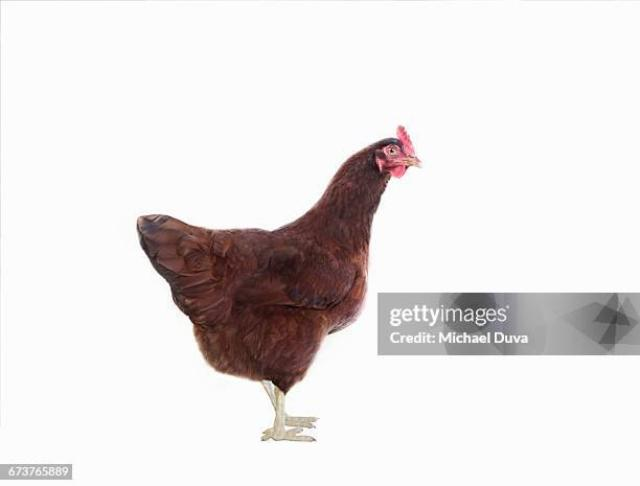Chicken: (135, 124, 424, 443)
